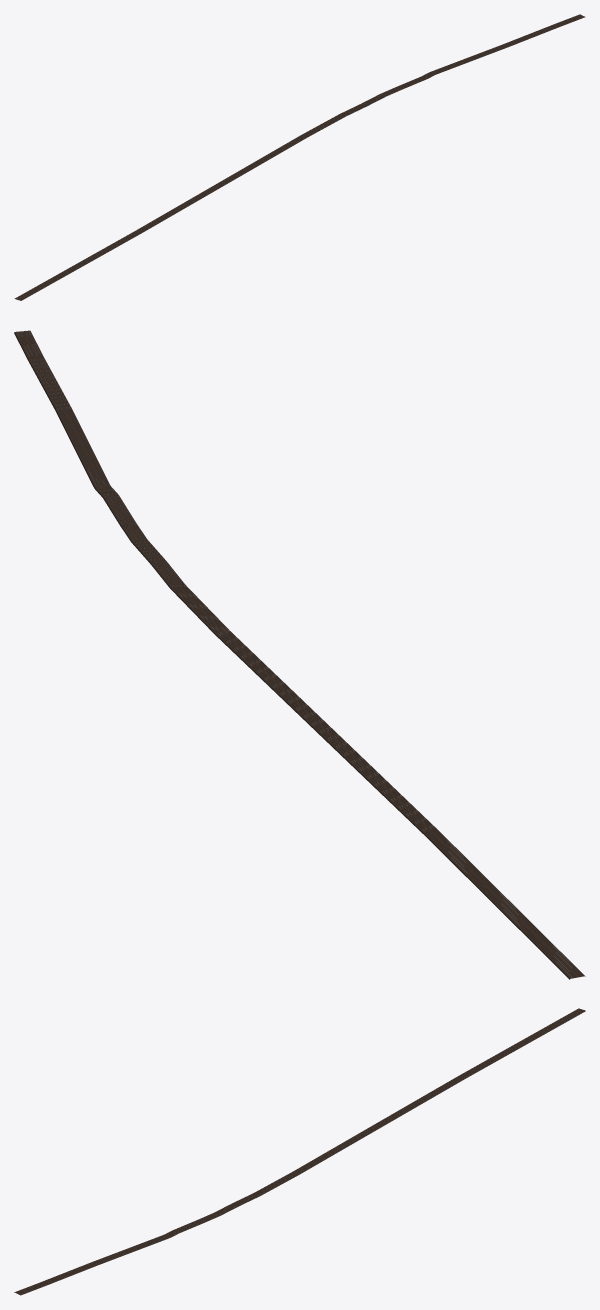
The model's file is kobe_0008.glb.
3 renders of one model, top to bottom at view 1: azimuth 90°, elevation 25°; view 2: azimuth 150°, elevation 25°; view 3: azimuth 270°, elevation 25°, orthographic. The views are drawn at different scales.
Visible parts, largest first — view 1: ballast_top, oxidised_rail_profiles; view 2: ballast_top, oxidised_rail_profiles, ballast_left; view 3: ballast_top, oxidised_rail_profiles, ballast_left.
Boxes of the visible parts, x1,y1,x2,y2 form: ballast_top: (14, 14, 585, 300); oxidised_rail_profiles: (15, 15, 584, 300); ballast_top: (15, 330, 584, 978); oxidised_rail_profiles: (16, 331, 582, 977); ballast_left: (14, 332, 570, 979); ballast_top: (14, 1008, 585, 1294); oxidised_rail_profiles: (15, 1008, 584, 1293); ballast_left: (20, 1011, 585, 1295).
Size of the model in its own units: 581 by 0.819 by 490.
4 materials, 3 textured.
